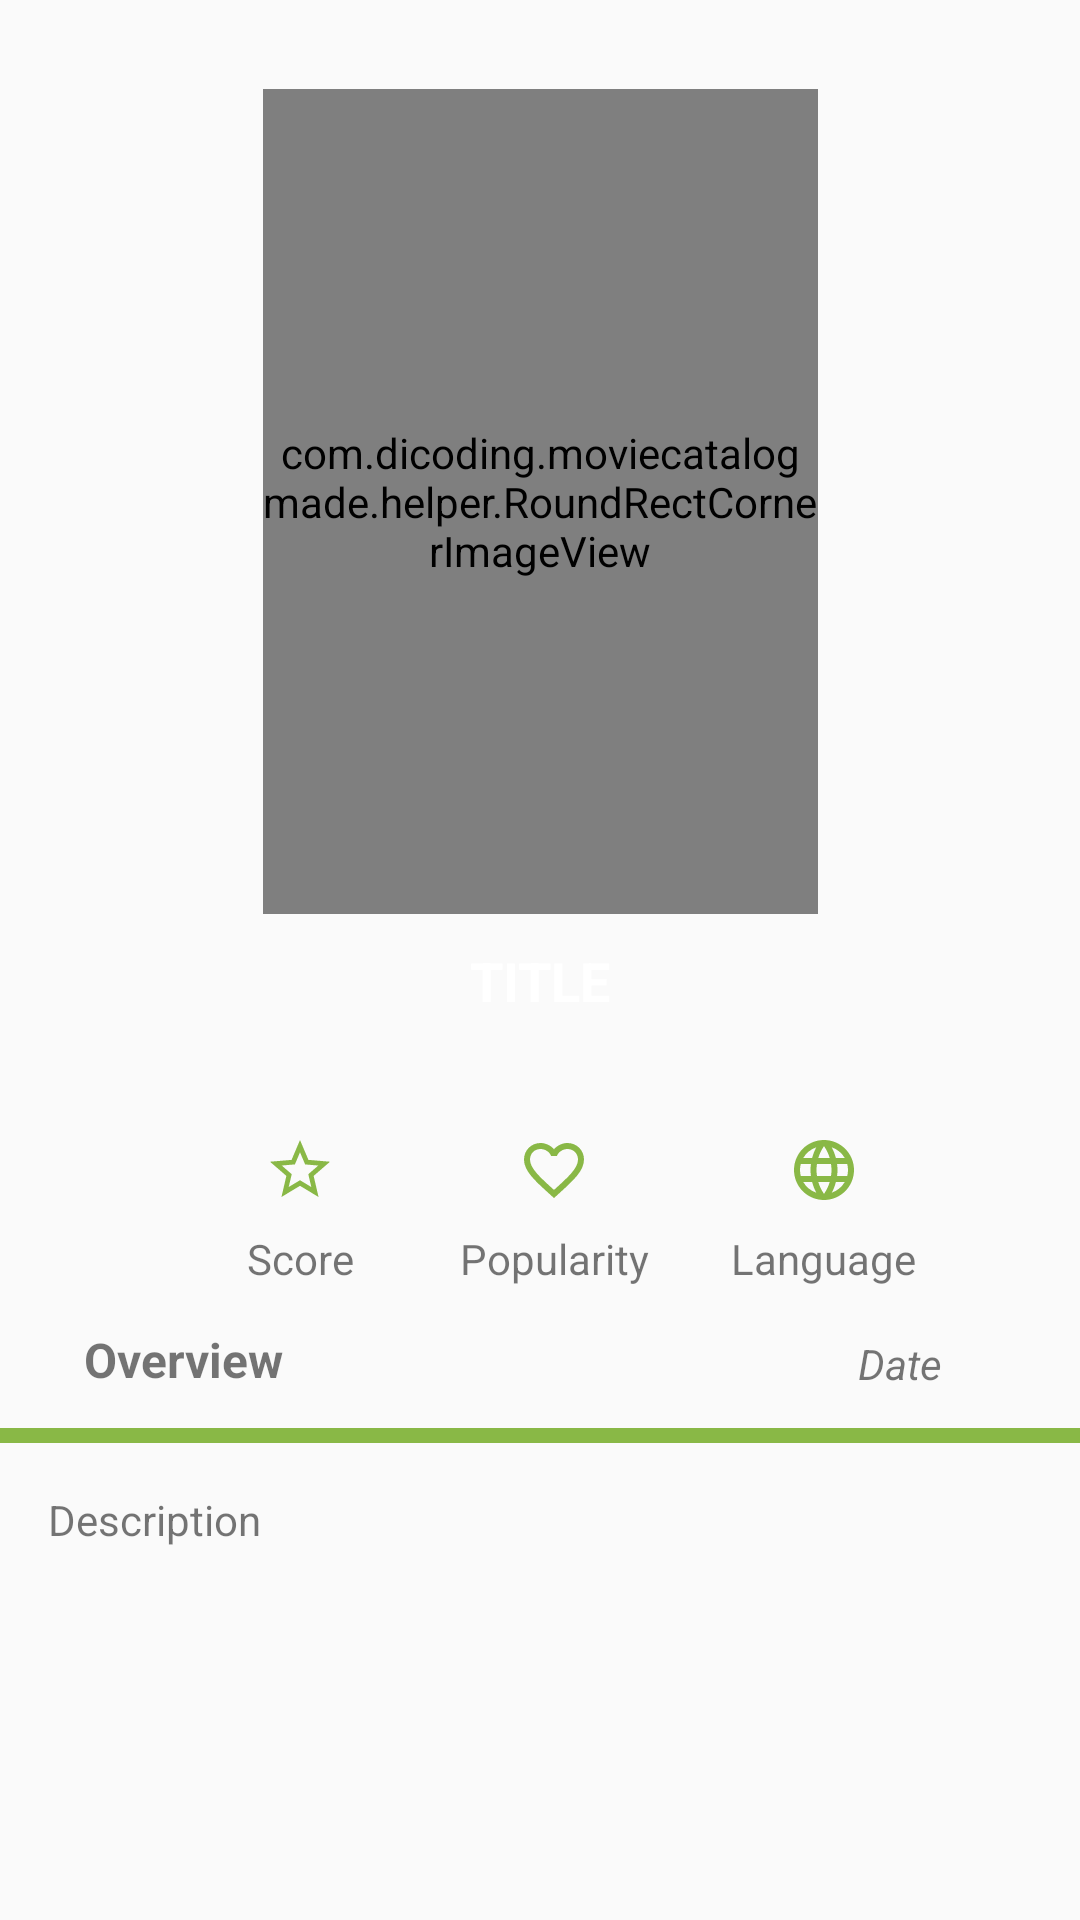

Screen size 1080px x 1920px. Icon name, then its center in pixels as [x,y]:
favorite border: [554,1170]
star border: [300,1168]
